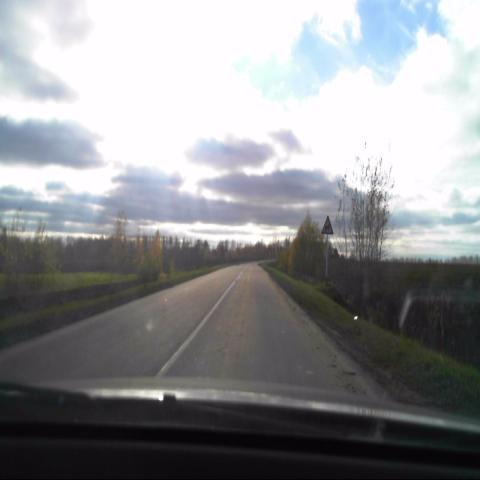1_12: (320, 215, 334, 235)
